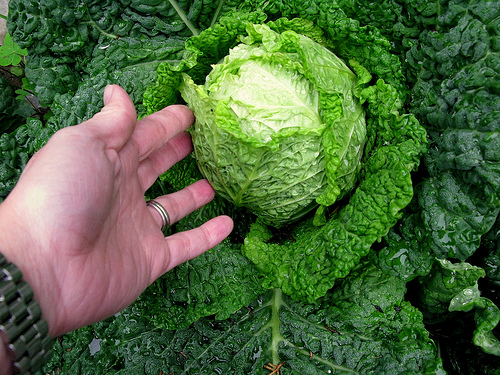cabbage: (190, 27, 366, 215)
